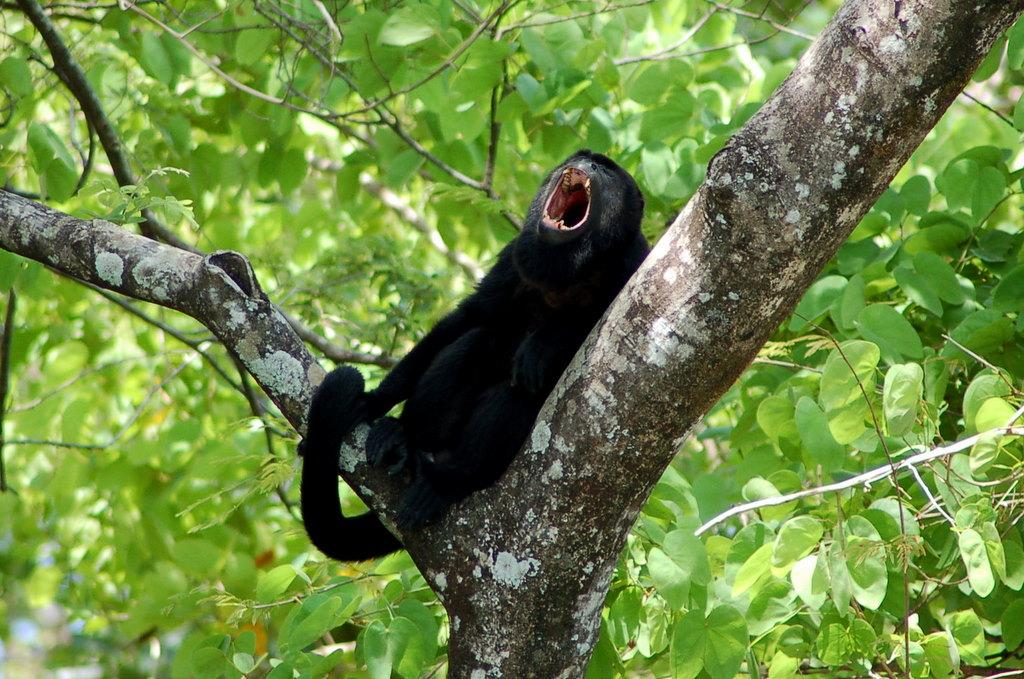monkey: (300, 152, 650, 558)
